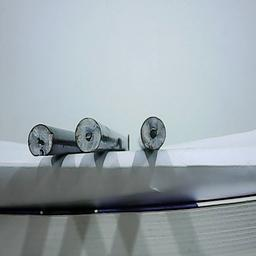pen: (25, 126, 52, 157), (140, 116, 167, 147), (72, 118, 99, 149)
